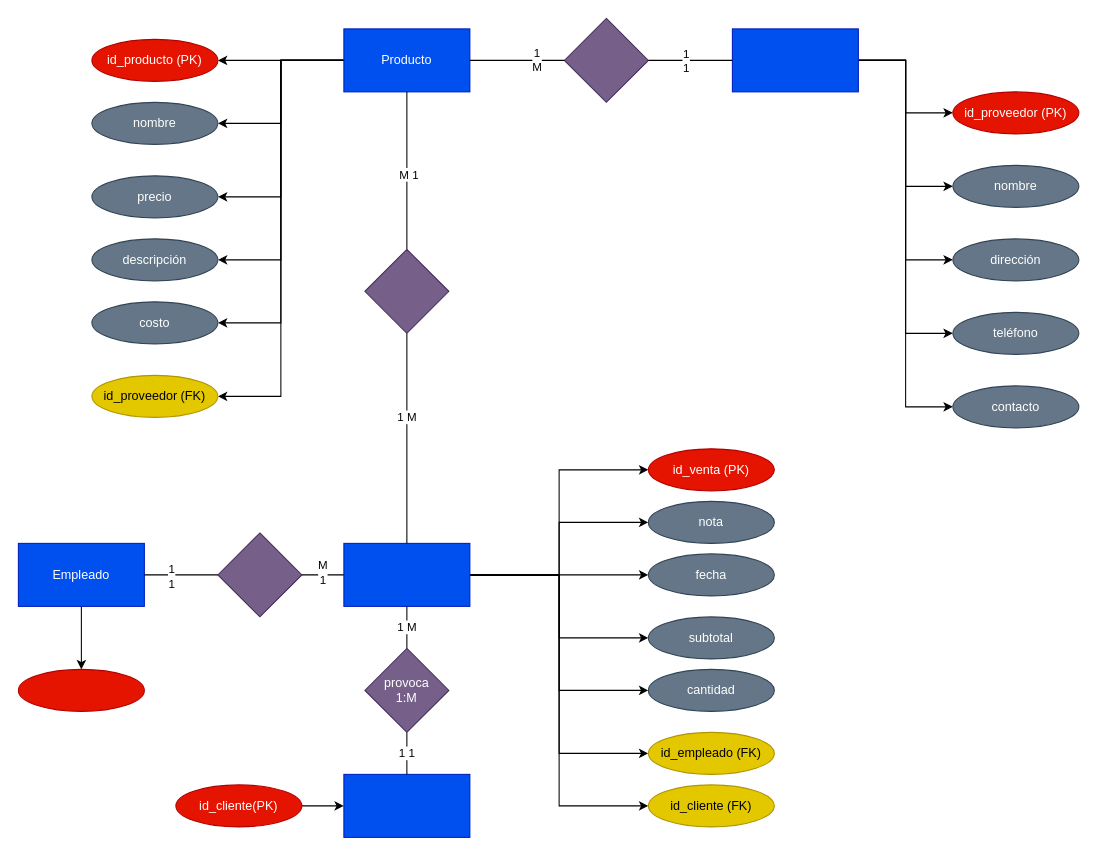
This 1097x856 diagram has some shape labels left out. Each missing label, with the centre of its shape:
"Cliente" belongs at (x=406, y=805).
"id_empleado (PK)" belongs at (x=80, y=689).
"Provedor" belongs at (x=794, y=60).
"realiza 1:M" belongs at (x=259, y=574).
"tiene M:1" belongs at (x=605, y=59).
"tiene M:N" belongs at (x=406, y=290).
"Venta" belongs at (x=406, y=574).
